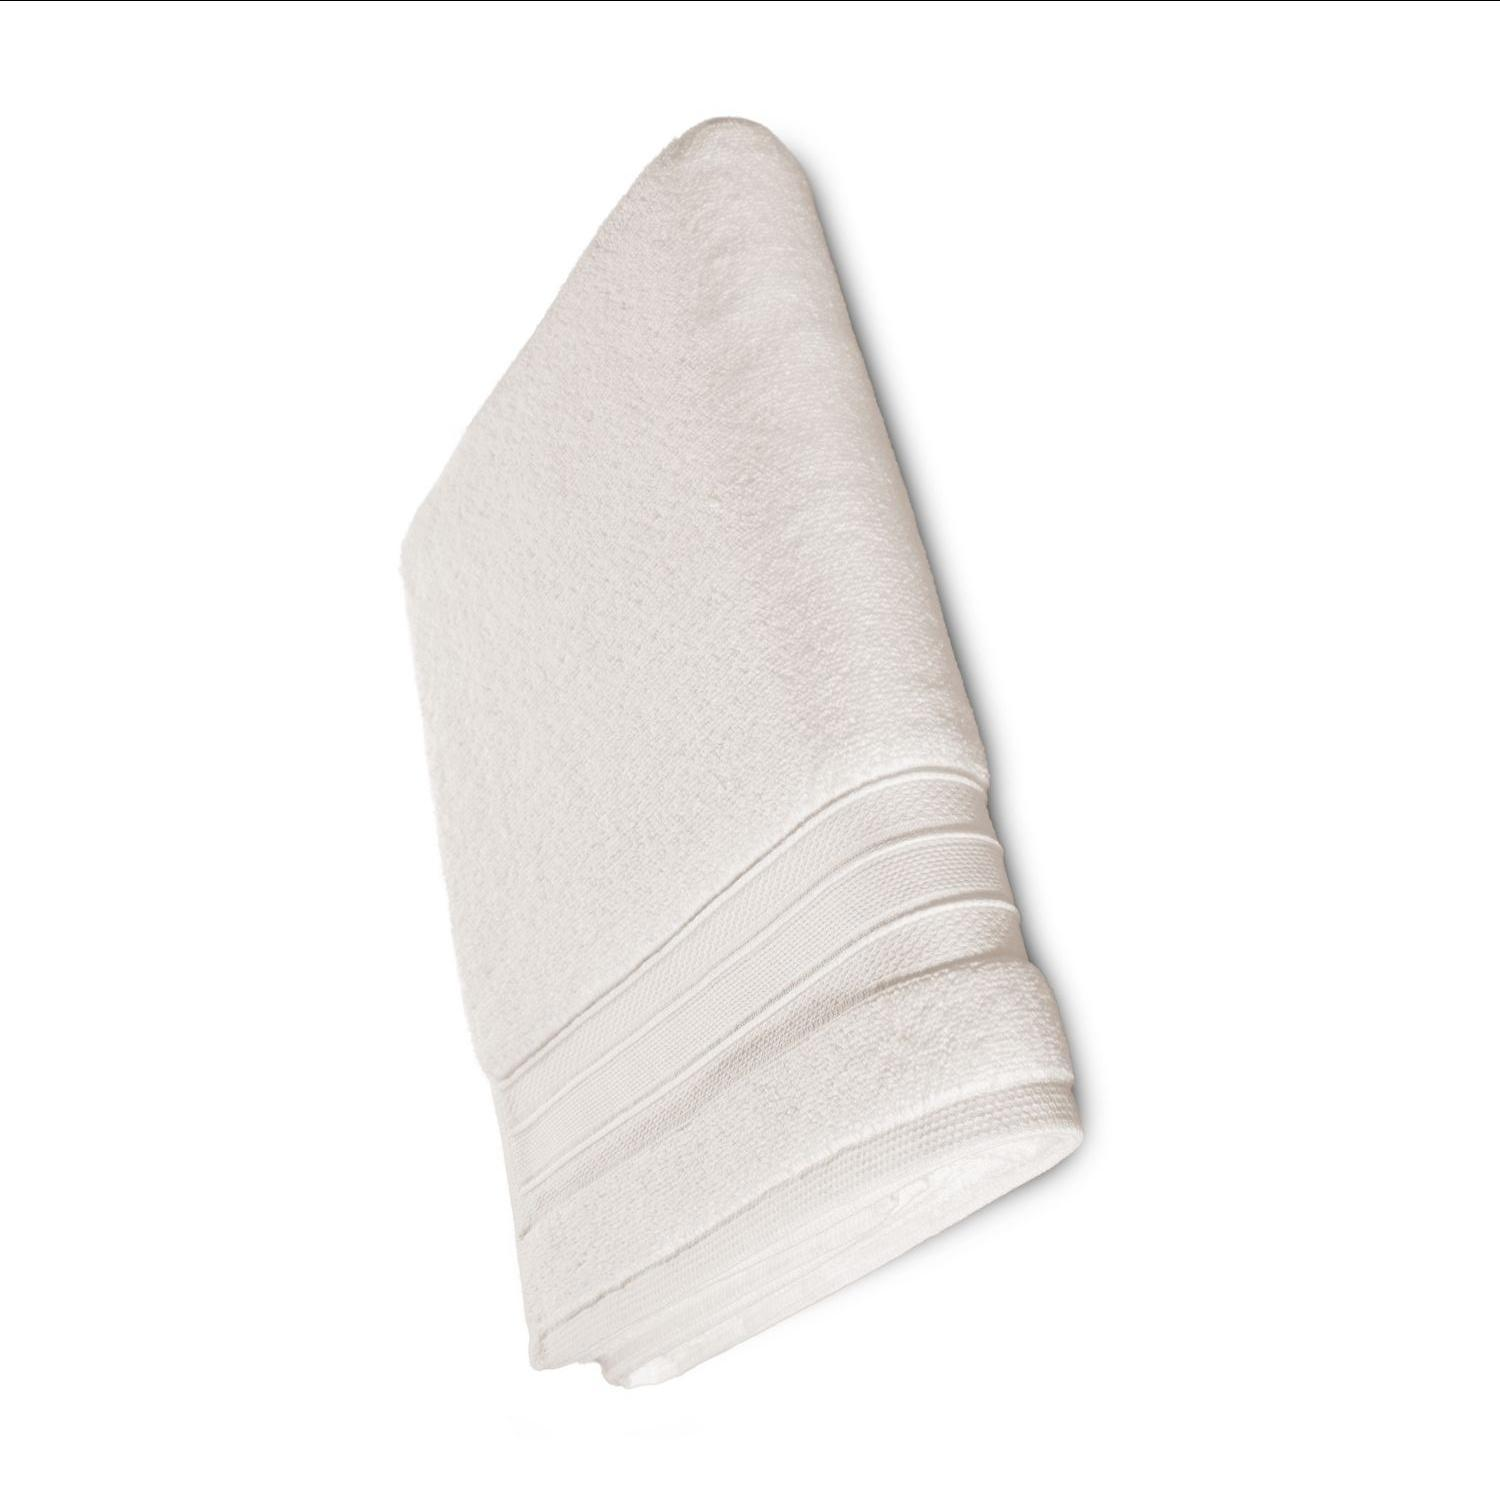towel: (273, 124, 1210, 1407)
